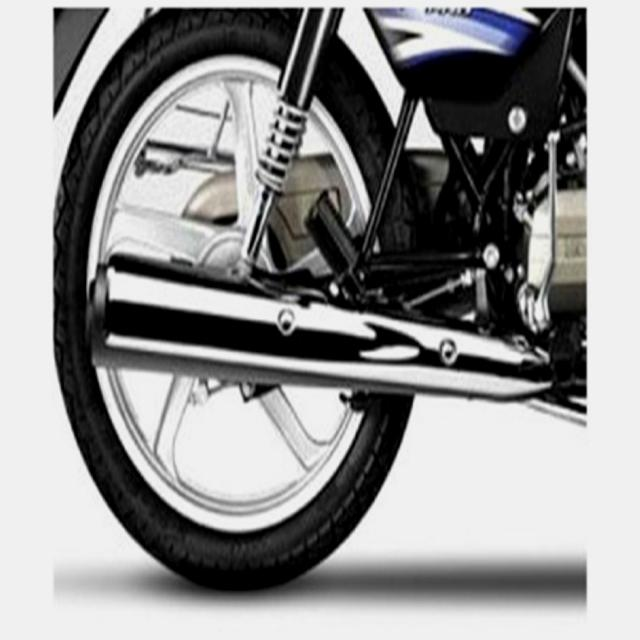MOTORCYCLE: (55, 6, 586, 587)
